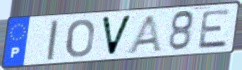8: (166, 9, 197, 54)
A: (125, 13, 164, 54)
E: (196, 8, 233, 50)
I: (45, 19, 60, 62)
O: (65, 18, 96, 59)
V: (99, 14, 134, 58)
